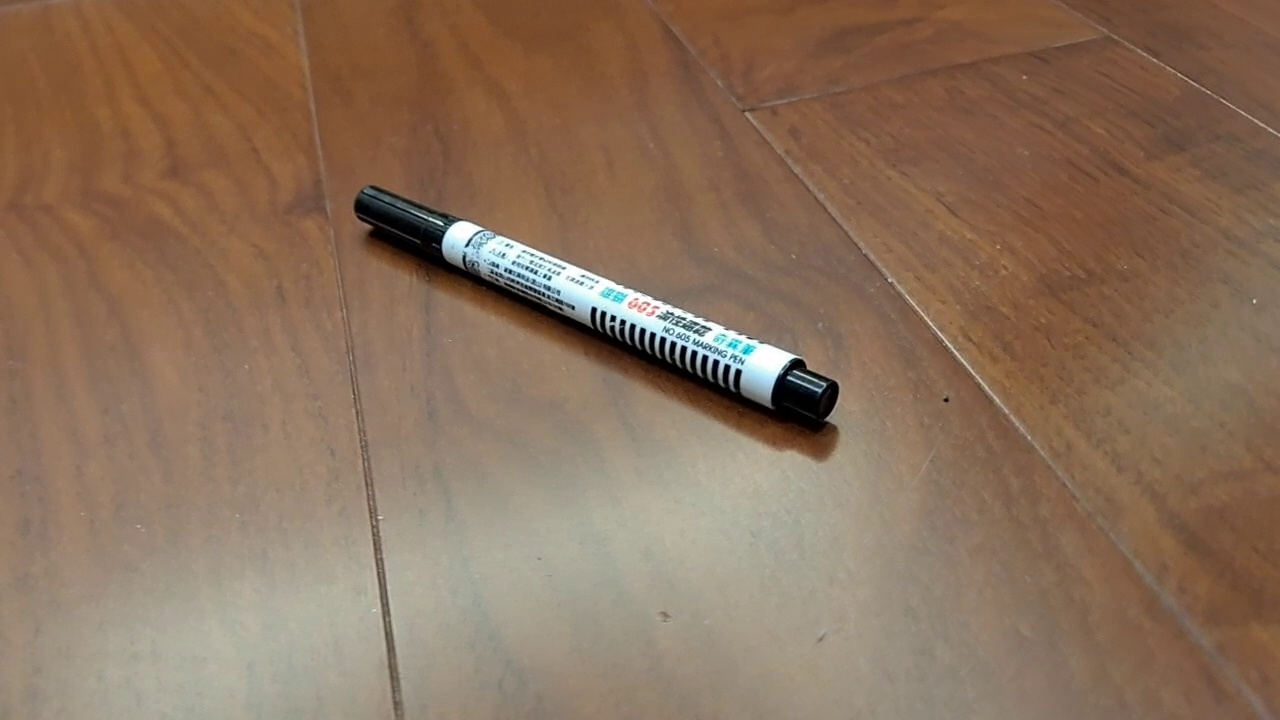pen: (353, 184, 840, 424)
